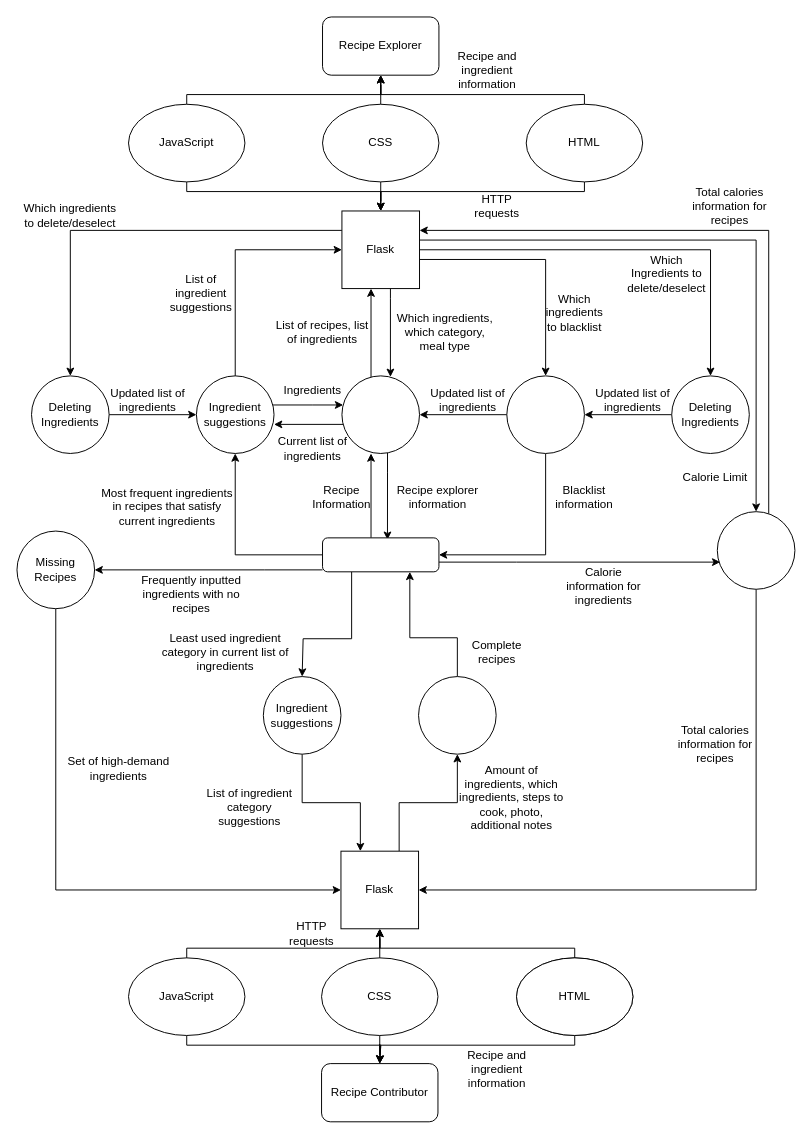
This 812x1139 diagram has some shape labels left out. The box of each missing label's shape, as (x1, y1, x2, y2) in pixels:
Blacklisting Ingredients: (506, 375, 584, 453)
Calorie Calculation: (716, 511, 795, 589)
Database (PostgreSQL): (322, 537, 439, 572)
Inputting Ingredients: (341, 375, 420, 453)
Writing Recipes: (418, 676, 496, 754)
